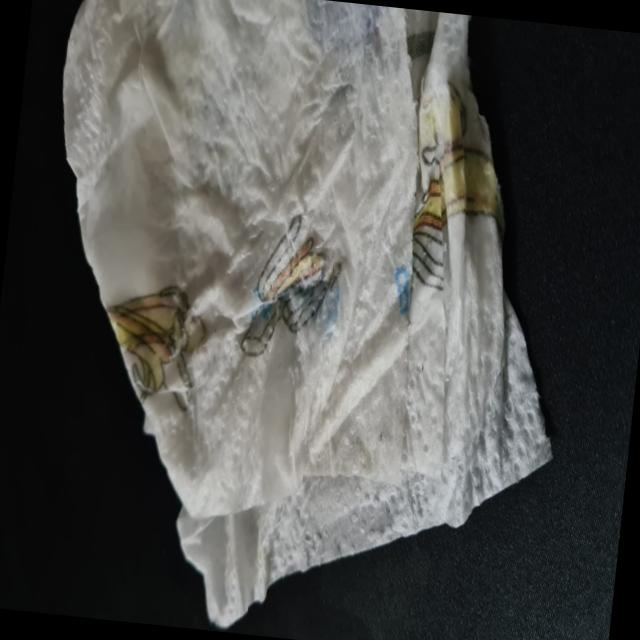organic waste: (3, 0, 607, 640)
